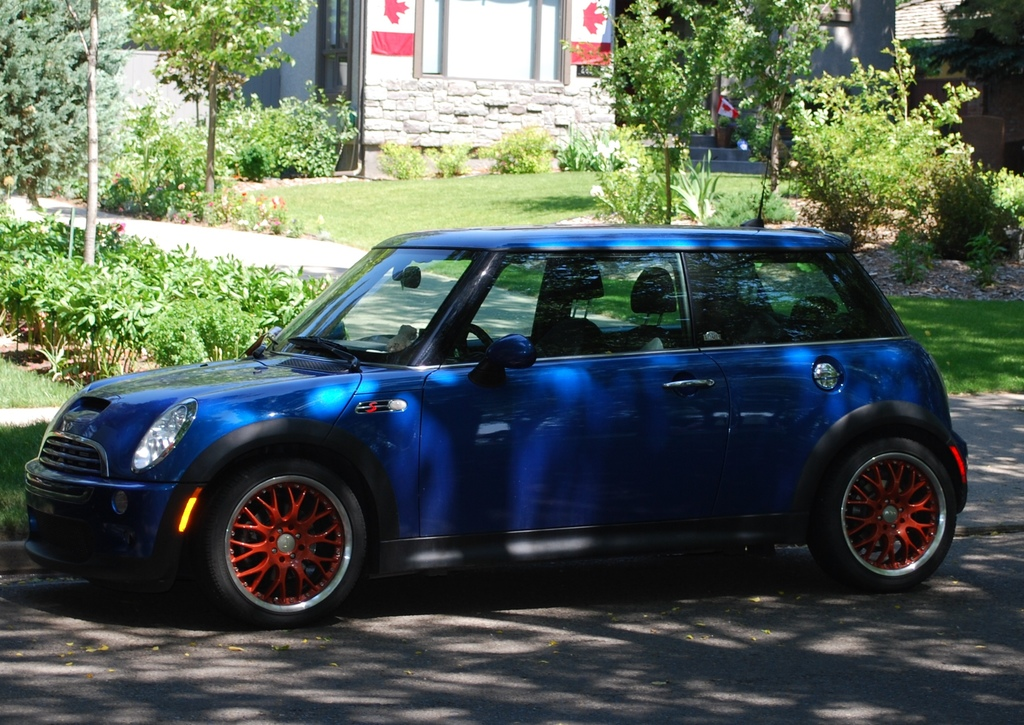Tree: (123, 0, 325, 205), (0, 0, 141, 212), (711, 0, 856, 200), (558, 0, 736, 135), (897, 0, 1024, 85), (64, 0, 98, 265)
